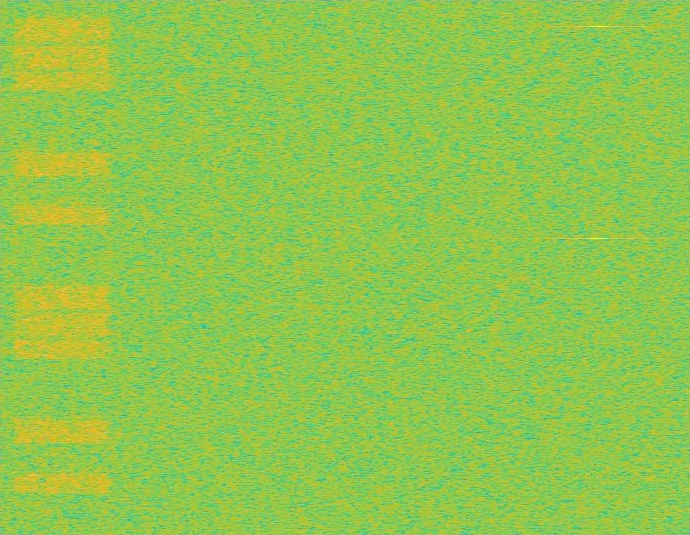LTE: (11, 0, 114, 534)
Radar: (591, 0, 605, 534)
